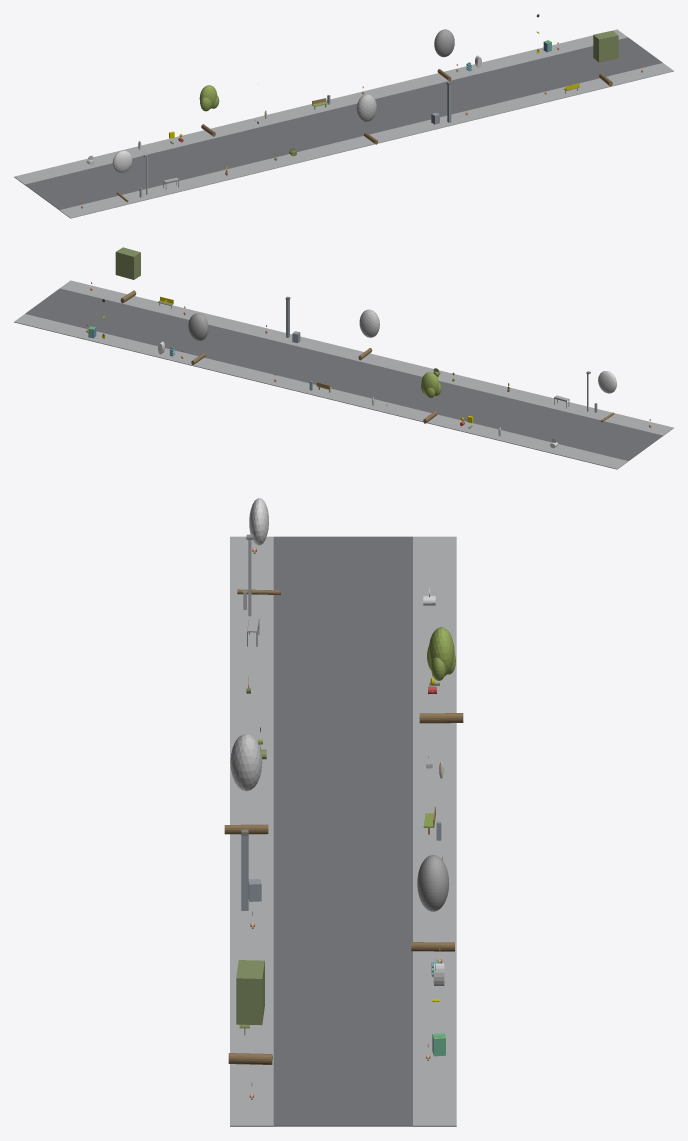
3 renders of one model, top to bottom at view 1: azimuth 30°, elevation 25°; view 2: azimuth 150°, elevation 25°; view 3: azimuth 270°, elevation 25°, orthographic. The views are drawn at different scales.
Parts seen in each view (by area): view 1: road_slab, sidewalk_left, sidewalk_right, inst_0016, inst_0014, inst_0015, inst_0013, inst_0012; view 2: road_slab, sidewalk_right, sidewalk_left, inst_0016, inst_0014, inst_0015, inst_0013, inst_0012; view 3: road_slab, sidewalk_right, sidewalk_left, inst_0016, inst_0014, inst_0015, inst_0013, inst_0012.
Part boxes in pixels (x1,y1,x2,y2): road_slab: [25, 37, 662, 210]; sidewalk_left: [59, 63, 673, 218]; sidewalk_right: [14, 29, 627, 184]; inst_0016: [593, 30, 618, 86]; inst_0014: [356, 94, 377, 144]; inst_0015: [434, 29, 454, 81]; inst_0013: [199, 85, 219, 136]; inst_0012: [112, 150, 132, 202]; road_slab: [25, 288, 662, 460]; sidewalk_right: [14, 314, 628, 469]; sidewalk_left: [60, 280, 673, 435]; inst_0016: [115, 247, 140, 303]; inst_0014: [358, 309, 379, 360]; inst_0015: [188, 313, 208, 364]; inst_0013: [421, 372, 441, 423]; inst_0012: [598, 371, 616, 422]; road_slab: [273, 536, 412, 1126]; sidewalk_right: [413, 536, 456, 1126]; sidewalk_left: [230, 536, 273, 1126]; inst_0016: [228, 960, 272, 1064]; inst_0014: [224, 733, 268, 834]; inst_0015: [411, 855, 454, 951]; inst_0013: [419, 627, 463, 723]; inst_0012: [237, 498, 280, 594].
Size of the model in its own units: 80 by 6.08 by 13.71.
